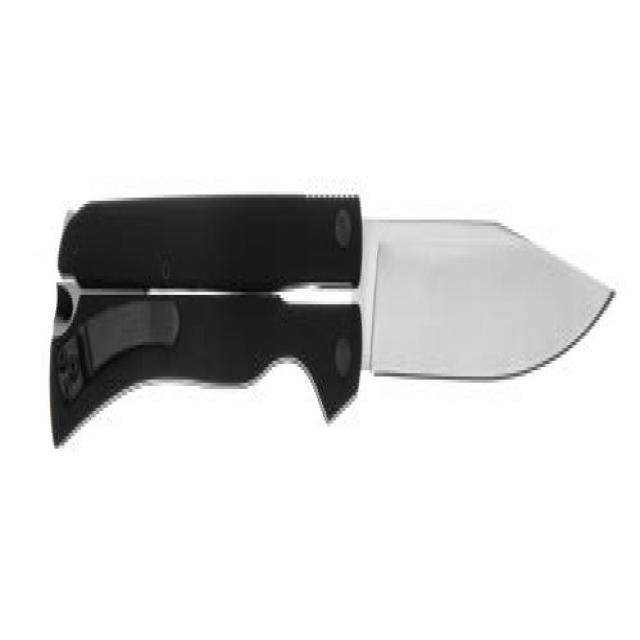knife: (46, 186, 620, 457)
